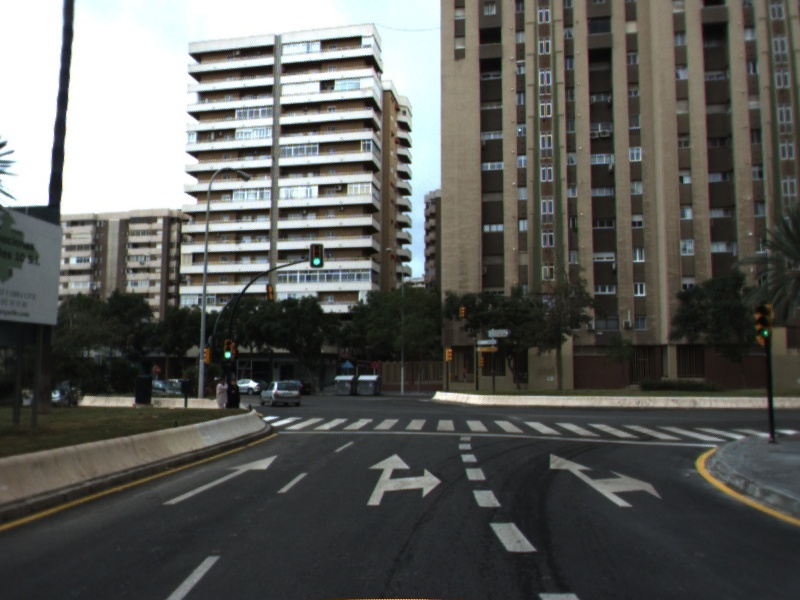STRAIGHT: (160, 452, 280, 506)
STRAIGHT_RIGHT: (547, 452, 664, 509), (365, 451, 444, 508)
